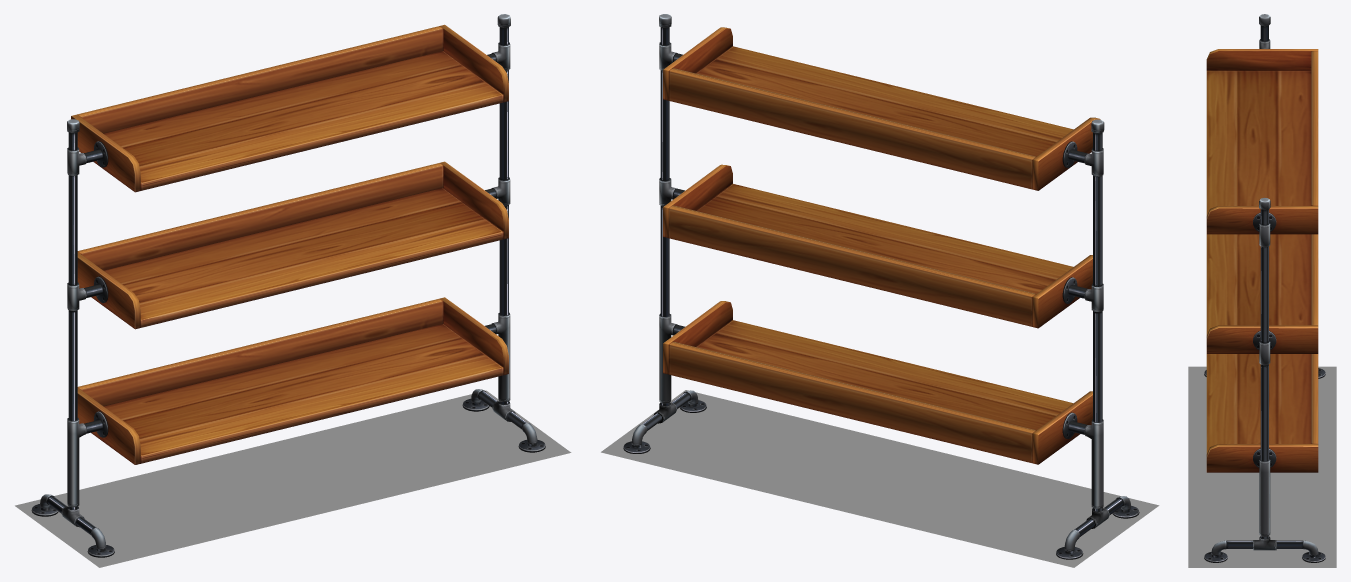
The model's file is shoerack_003.FBX.
3 renders of one model, left to right at view 1: azimuth 30°, elevation 25°; view 2: azimuth 150°, elevation 25°; view 3: azimuth 270°, elevation 25°, orthographic. The views are drawn at different scales.
Parts seen in each view (by area): view 1: shoerack_003_01, shoerack_003_shadow; view 2: shoerack_003_01, shoerack_003_shadow; view 3: shoerack_003_01, shoerack_003_shadow.
Part boxes in pixels (x1,y1,x2,y2): shoerack_003_01: [31, 14, 545, 557]; shoerack_003_shadow: [15, 390, 571, 567]; shoerack_003_01: [623, 14, 1139, 559]; shoerack_003_shadow: [601, 390, 1159, 567]; shoerack_003_01: [1204, 14, 1325, 562]; shoerack_003_shadow: [1188, 366, 1336, 567].
Bounding box in the file's own units: 3064 × 2545 × 957.
